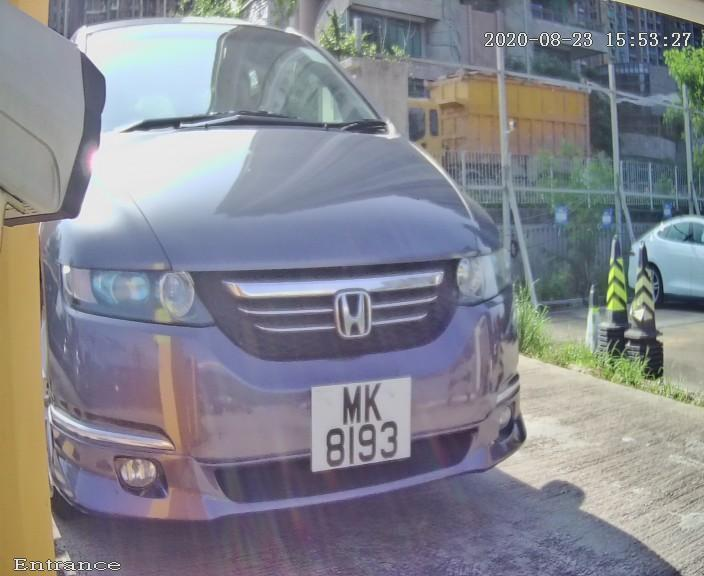Car: (4, 6, 566, 571)
License Plate: (299, 368, 419, 484)
